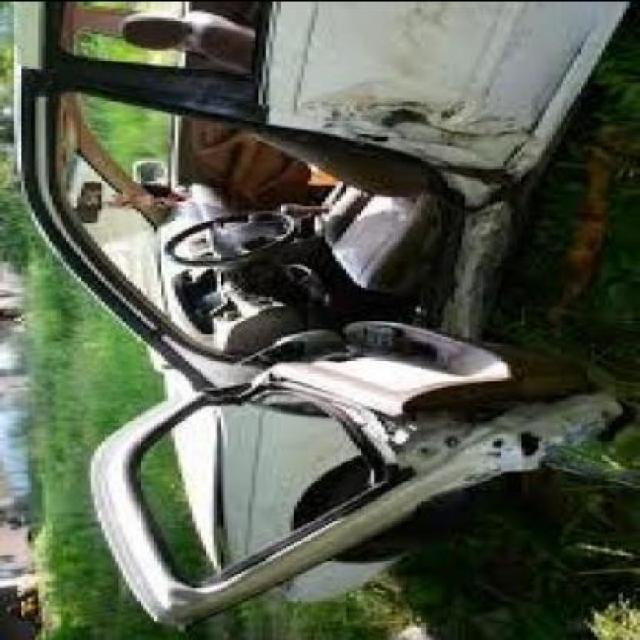damage: (92, 74, 637, 628)
